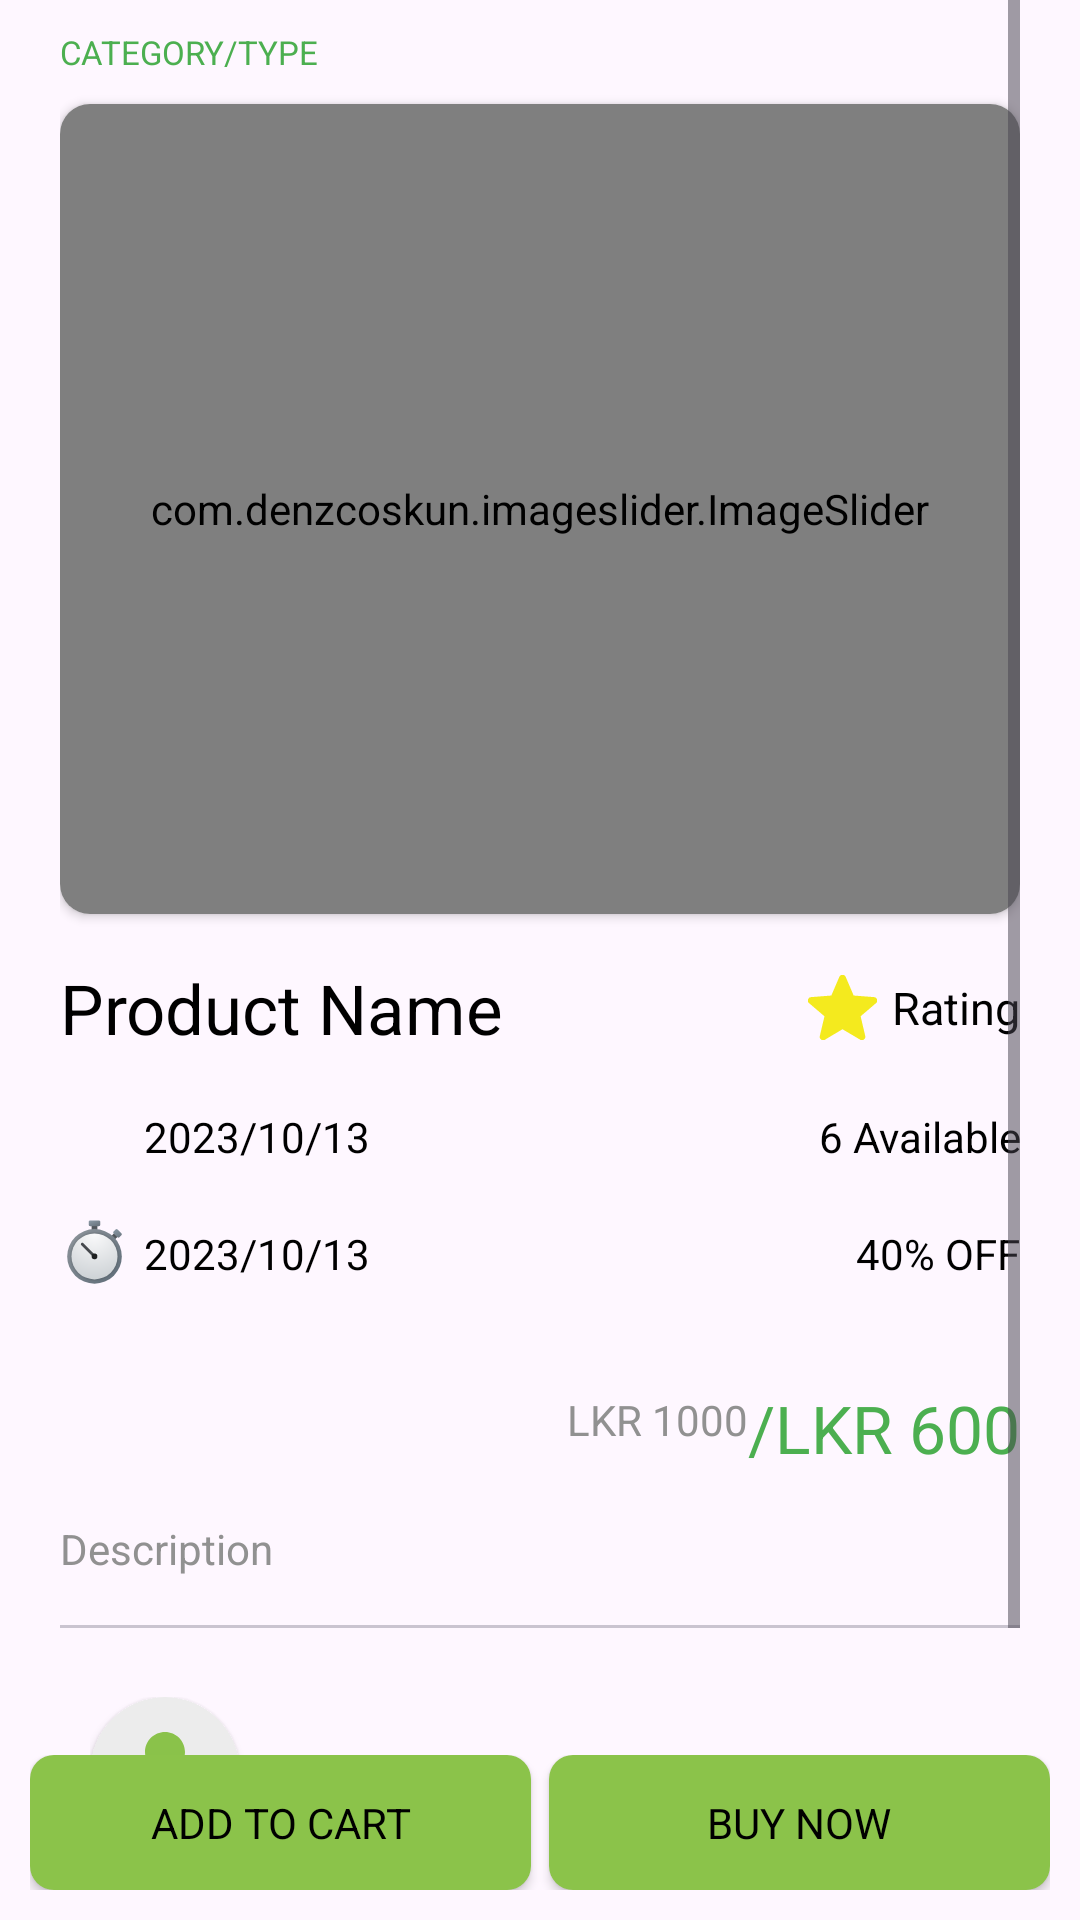

Icons on this 1080px x 1920px Android screen, each with its box as box=[x1, y1, x2, y2]:
star: box=[808, 975, 877, 1040]
